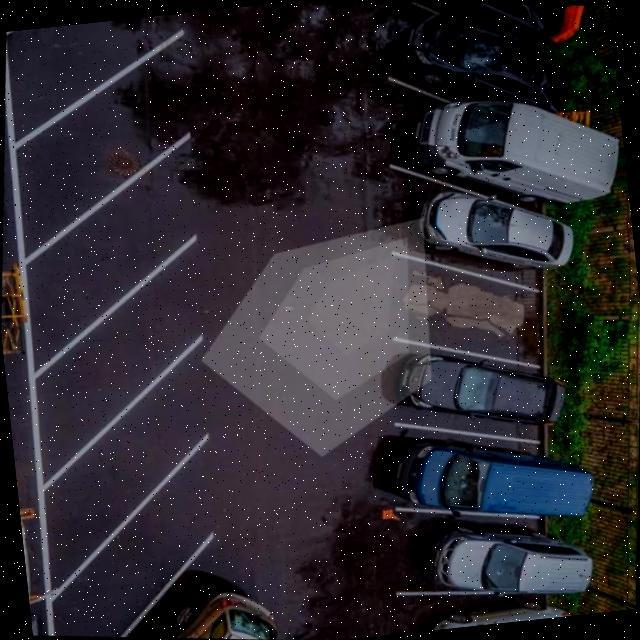space-empty: (32, 250, 216, 470), (38, 363, 228, 576), (15, 50, 196, 252), (30, 154, 211, 352), (50, 471, 220, 640), (376, 238, 552, 377), (7, 13, 190, 131)
space-occupied: (362, 83, 572, 224), (365, 155, 561, 300), (364, 0, 555, 132), (371, 322, 548, 458), (392, 412, 568, 534), (382, 496, 558, 617), (93, 573, 257, 640), (390, 570, 552, 634)
